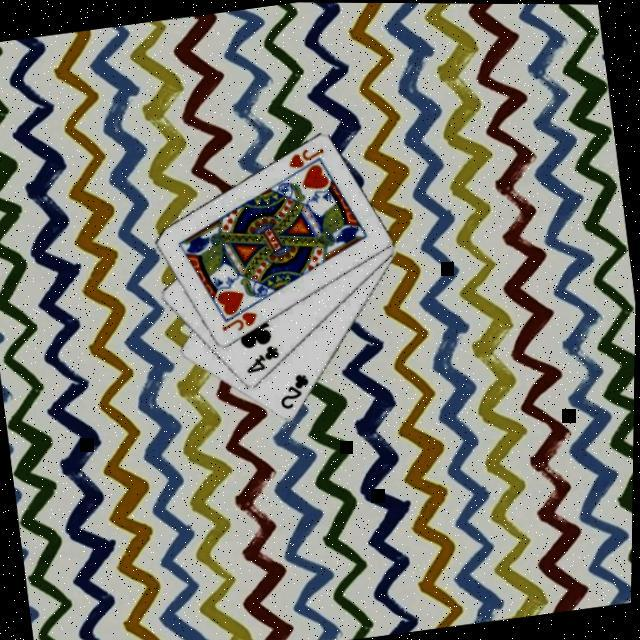2C: (273, 372, 315, 415)
4C: (239, 343, 283, 378)
JH: (282, 145, 327, 175), (216, 310, 261, 338)
